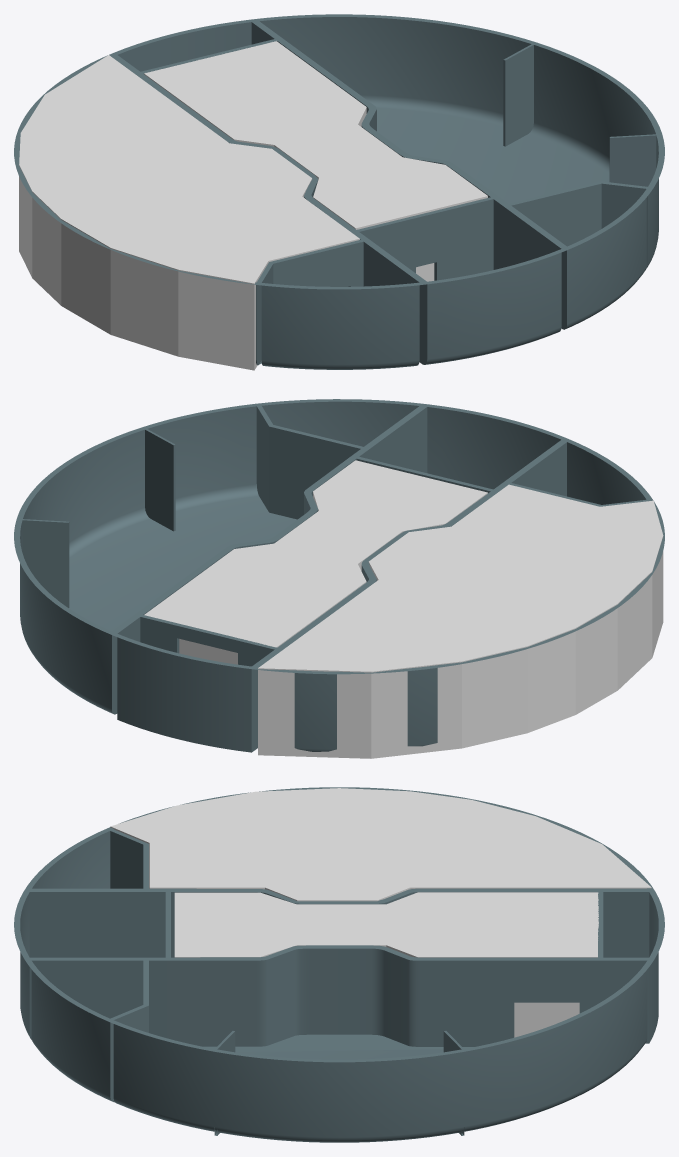
File: Location 1.fbx
3 views of the same model, one above another, from view 1: azimuth 30°, elevation 25°; view 2: azimuth 150°, elevation 25°; view 3: azimuth 270°, elevation 25° (orthographic).
Visible parts, largest first — view 1: Walls, MainRoom, Hall2; view 2: Walls, MainRoom, Hall2; view 3: Walls, MainRoom, Hall2.
Part boxes in pixels (x1,y1,x2,y2): Walls: (14,14,664,369); MainRoom: (19,55,359,370); Hall2: (144,41,487,281); Walls: (14,399,664,752); MainRoom: (258,484,663,758); Hall2: (144,460,487,664); Walls: (14,787,664,1142); MainRoom: (110,788,651,901); Hall2: (174,892,598,1037).
Size of what is drawn, in the model's own units: 4000 by 593 by 4000.
